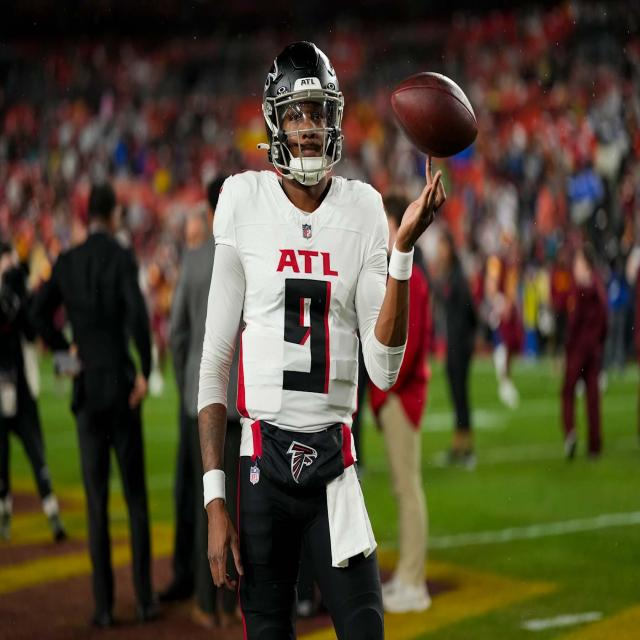Ball: (390, 70, 480, 162)
